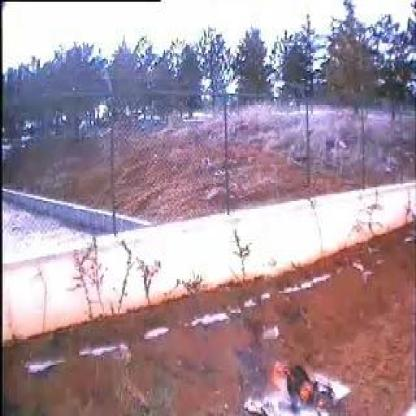-: (241, 346, 259, 374)
foggia-v2-map80-epoch100 - v1 4323: (270, 364, 288, 392)
